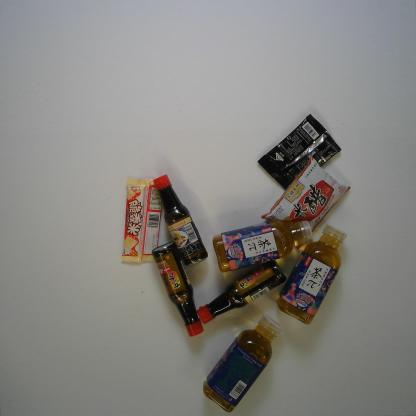Chocolate: (120, 179, 147, 263), (137, 178, 163, 262)
Drink: (202, 314, 282, 413), (276, 223, 348, 325), (212, 218, 314, 273)
Instant Drink: (257, 113, 342, 192)
Seasoner: (260, 155, 352, 250), (196, 258, 288, 324), (152, 173, 209, 268), (151, 240, 204, 338)
